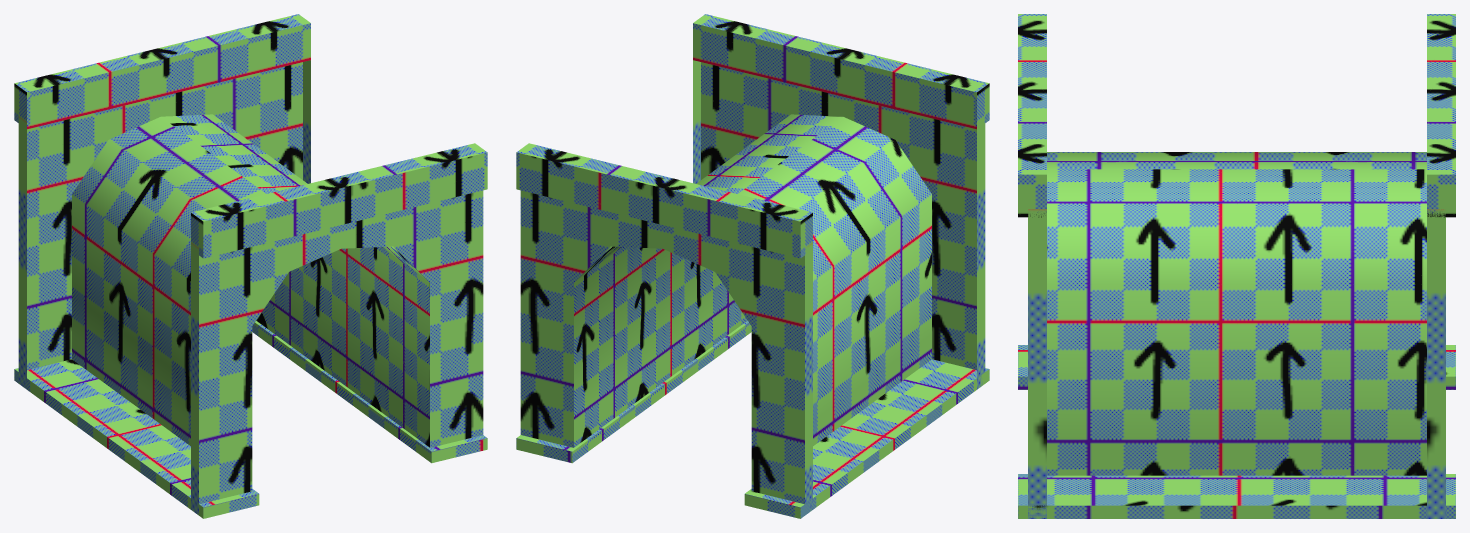
File: arch_small.obj
3 renders of one model, left to right at view 1: azimuth 30°, elevation 25°; view 2: azimuth 150°, elevation 25°; view 3: azimuth 270°, elevation 25°, orthographic. The views are drawn at different scales.
Parts seen in each view (by area): view 1: arch.002; view 2: arch.002; view 3: arch.002.
Boxes of the visible parts, x1,y1,x2,y2 form: arch.002: [14, 14, 487, 518]; arch.002: [516, 14, 989, 518]; arch.002: [1018, 14, 1455, 518].
Size of the model in its own units: 10 by 10 by 11.52.
